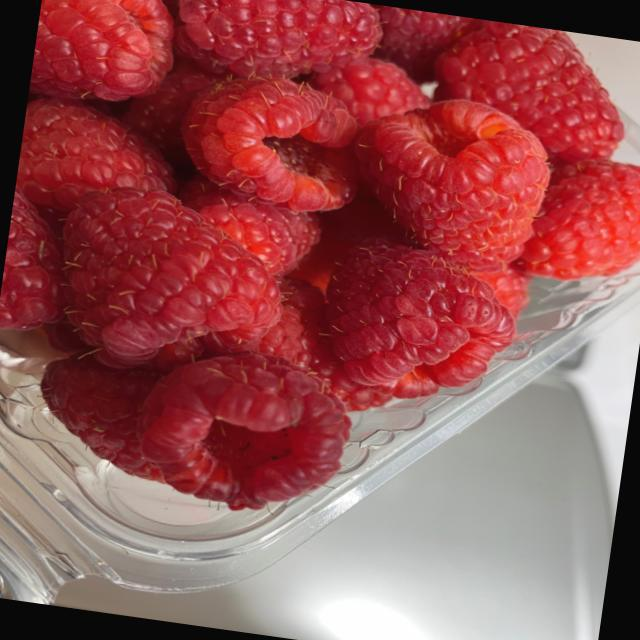raspberries: (0, 0, 608, 560)
